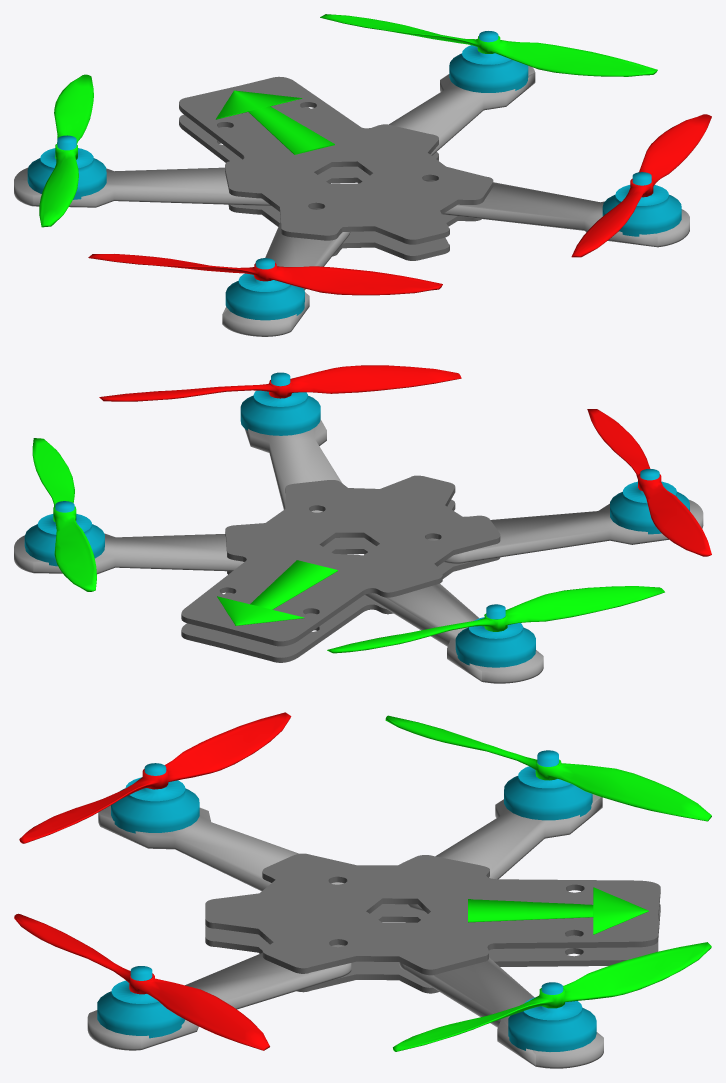
The model's file is quad_x_old.gltf.
3 views of the same model, one above another, from view 1: azimuth 30°, elevation 25°; view 2: azimuth 150°, elevation 25°; view 3: azimuth 270°, elevation 25° (orthographic). The views are drawn at different scales.
Parts seen in each view (by area): view 1: quad_xjson; view 2: quad_xjson; view 3: quad_xjson.
Boxes of the visible parts, x1,y1,x2,y2 form: quad_xjson: (14, 14, 711, 336); quad_xjson: (14, 365, 711, 683); quad_xjson: (14, 712, 711, 1068).
Bounding box in the file's own units: 8.22 × 0.7278 × 7.15.
